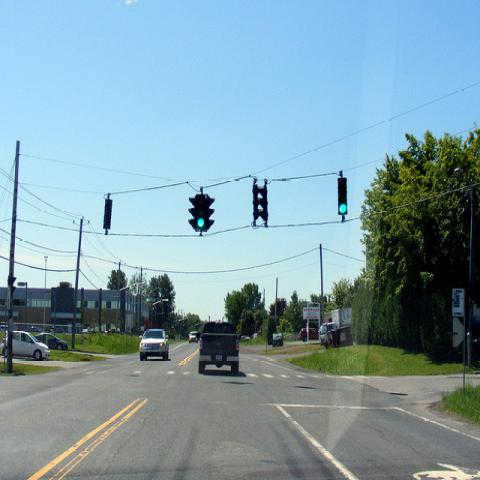car: (13, 330, 50, 360), (139, 331, 171, 360), (36, 334, 68, 350), (298, 328, 319, 340), (272, 336, 283, 348), (189, 331, 198, 343), (107, 329, 124, 334), (53, 328, 67, 333), (240, 336, 252, 341), (33, 327, 41, 332), (82, 329, 88, 333)
truck: (198, 321, 238, 374), (317, 308, 354, 350), (139, 328, 170, 363)
